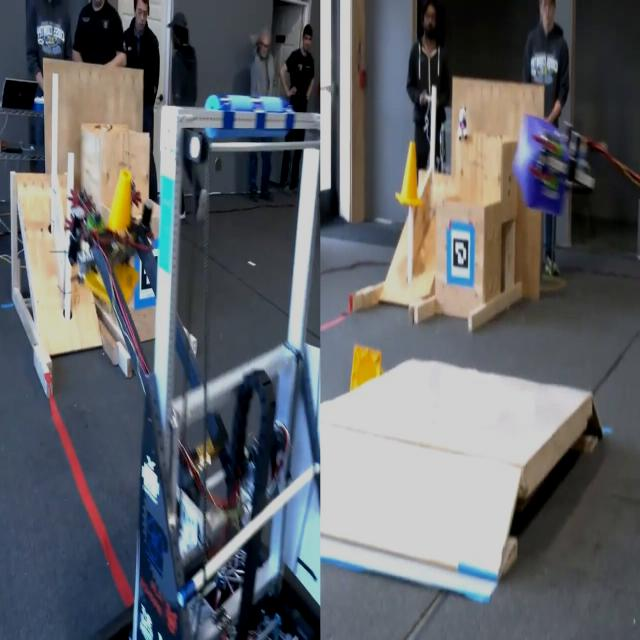frc_cone: (84, 161, 146, 300), (396, 140, 426, 212), (347, 342, 388, 394)
frc_cube: (515, 119, 573, 212)
